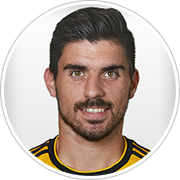smile: (77, 105, 113, 119)
